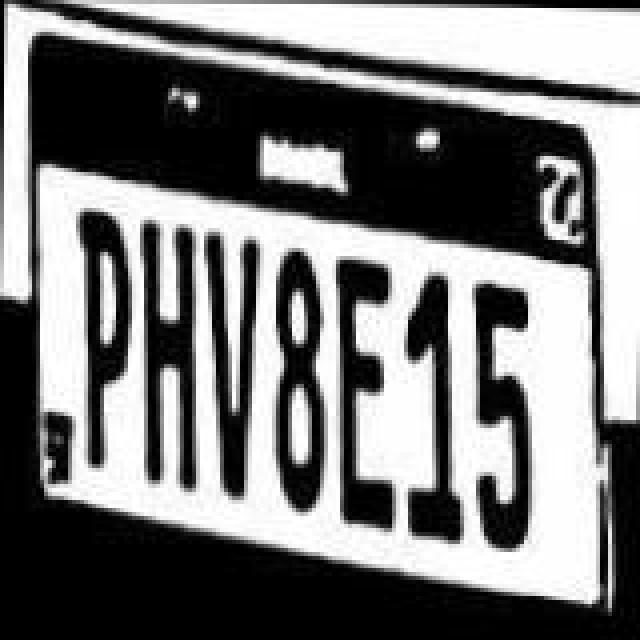1: (400, 270, 468, 538)
5: (470, 274, 534, 554)
8: (270, 244, 330, 512)
E: (330, 254, 402, 526)
H: (134, 220, 202, 496)
P: (74, 206, 134, 474)
V: (200, 232, 264, 504)
